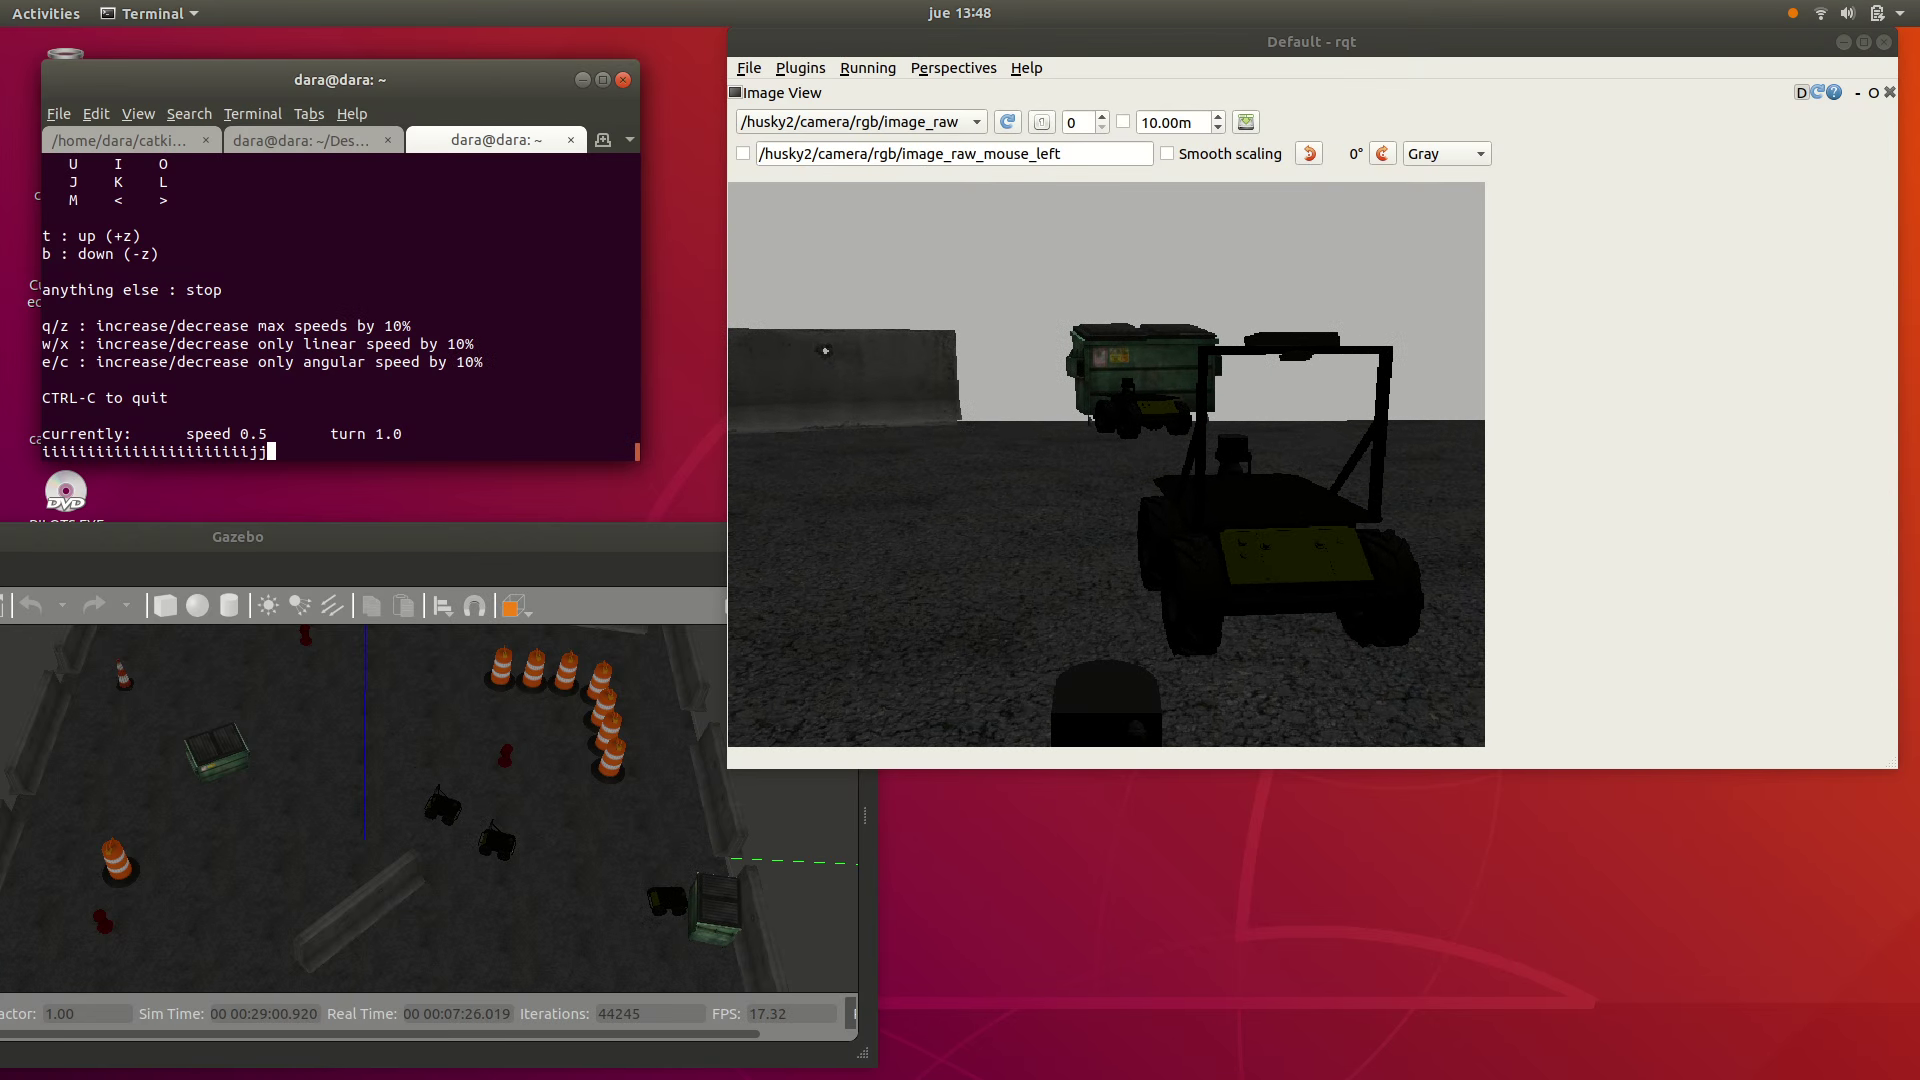husky: (1138, 473, 1425, 657), (1096, 391, 1192, 438), (644, 885, 689, 917), (477, 828, 518, 860), (426, 794, 461, 824)
